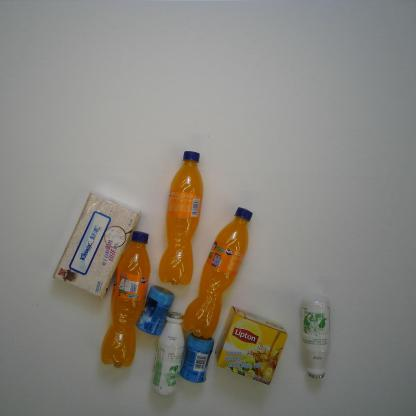Drink: (181, 206, 254, 338), (99, 230, 152, 369), (158, 150, 204, 286)
Gum: (136, 284, 176, 336), (179, 332, 215, 384)
Instant Drink: (214, 305, 288, 386)
Milk: (150, 310, 186, 397), (300, 294, 331, 380)
Tissue: (52, 190, 142, 300)
